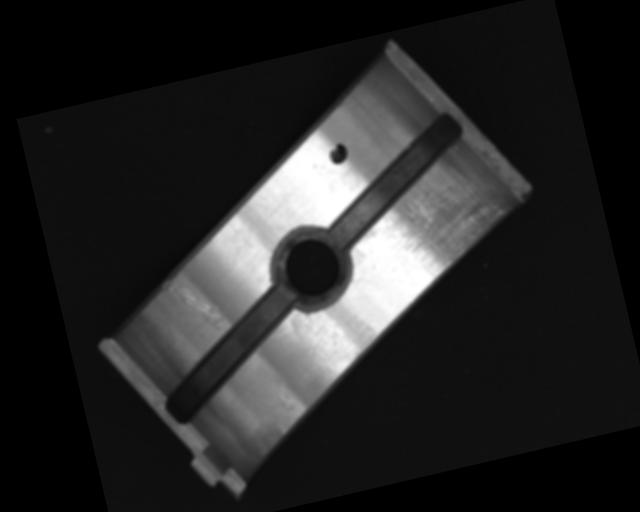blot: (326, 141, 350, 165)
bruise: (276, 389, 299, 414)
gap: (143, 284, 315, 427), (311, 113, 482, 249)
hole: (263, 221, 358, 318)
nick: (161, 268, 227, 341)
scratch: (354, 149, 523, 295)
